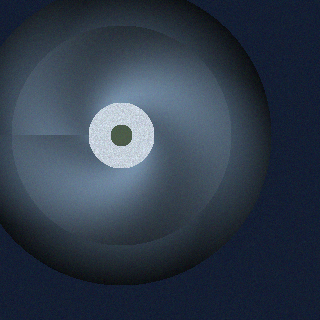cyclone_body: (5, 20, 236, 251)
cyclone_eye: (109, 123, 133, 147)
